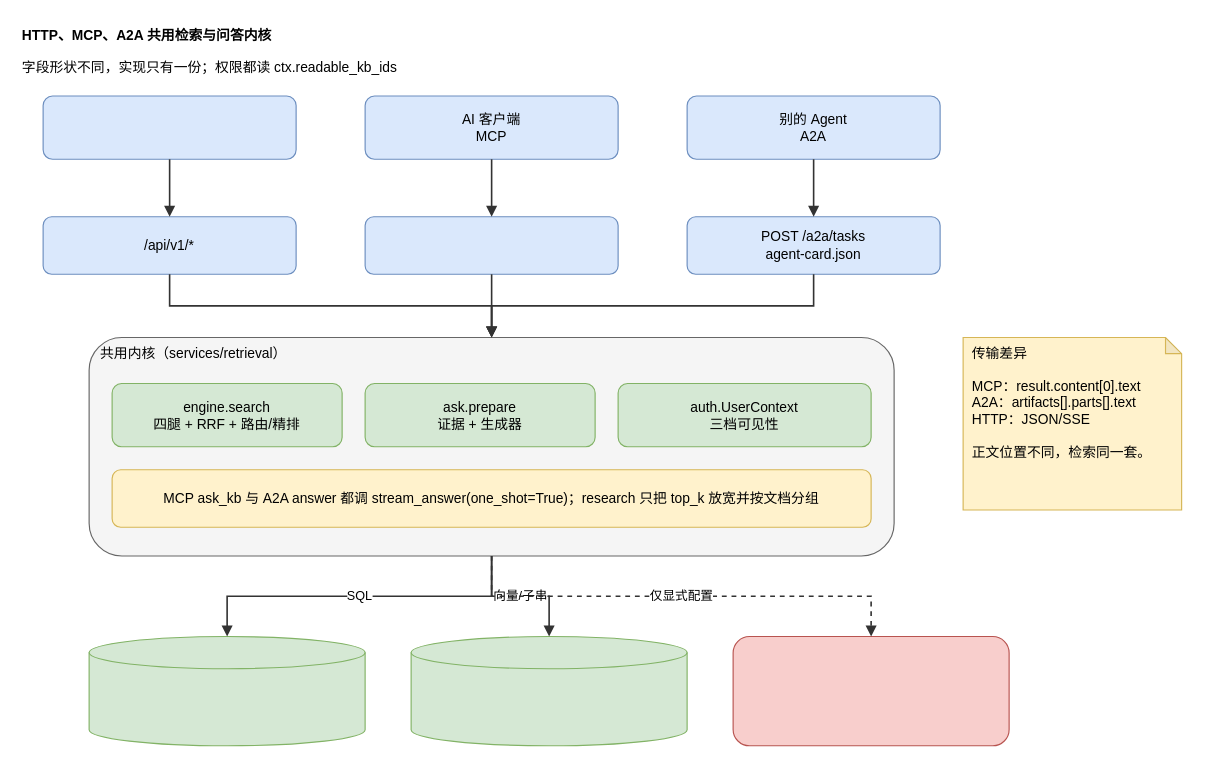
The diagram is 1212 pixels wide and 766 high, and some of its shapes have lost their labels. The shapes that lost their labels are listed below. From the top down, each one's box as (x1, y1, x2, y2) in pixels, then its label:
(42, 95, 296, 159): 浏览器 / curl REST + SSE
(364, 216, 618, 274): POST /mcp JSON-RPC
(88, 635, 365, 746): PostgreSQL 真相源
(410, 635, 687, 746): Qdrant 派生索引
(732, 635, 1009, 746): 外部 LLM（可选） 默认抽取式，零外传 显式配置才启用
